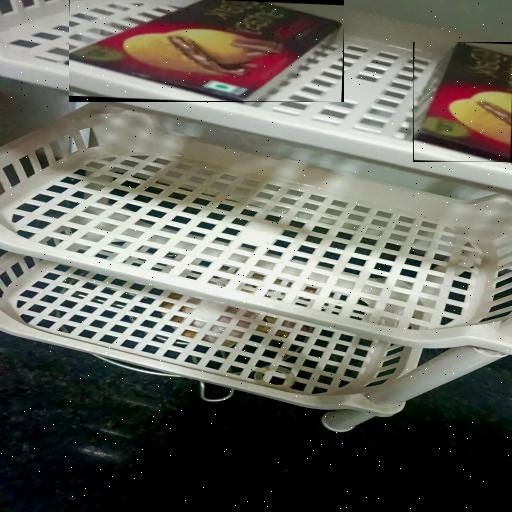Choco Fills: (69, 0, 344, 102), (413, 42, 512, 162)
